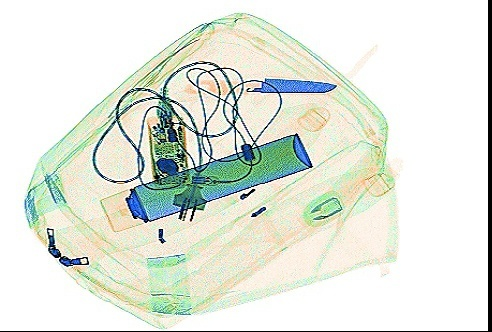knife: (180, 73, 338, 95)
pressure: (97, 130, 312, 233)
